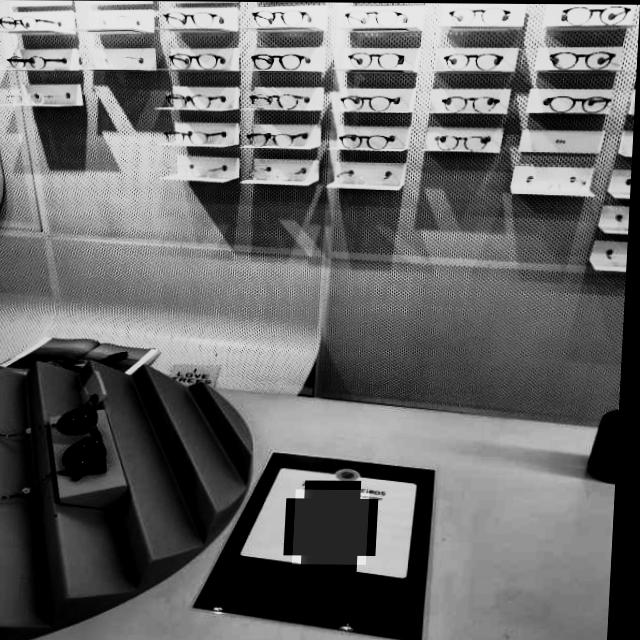qr_code: (298, 489, 375, 564)
